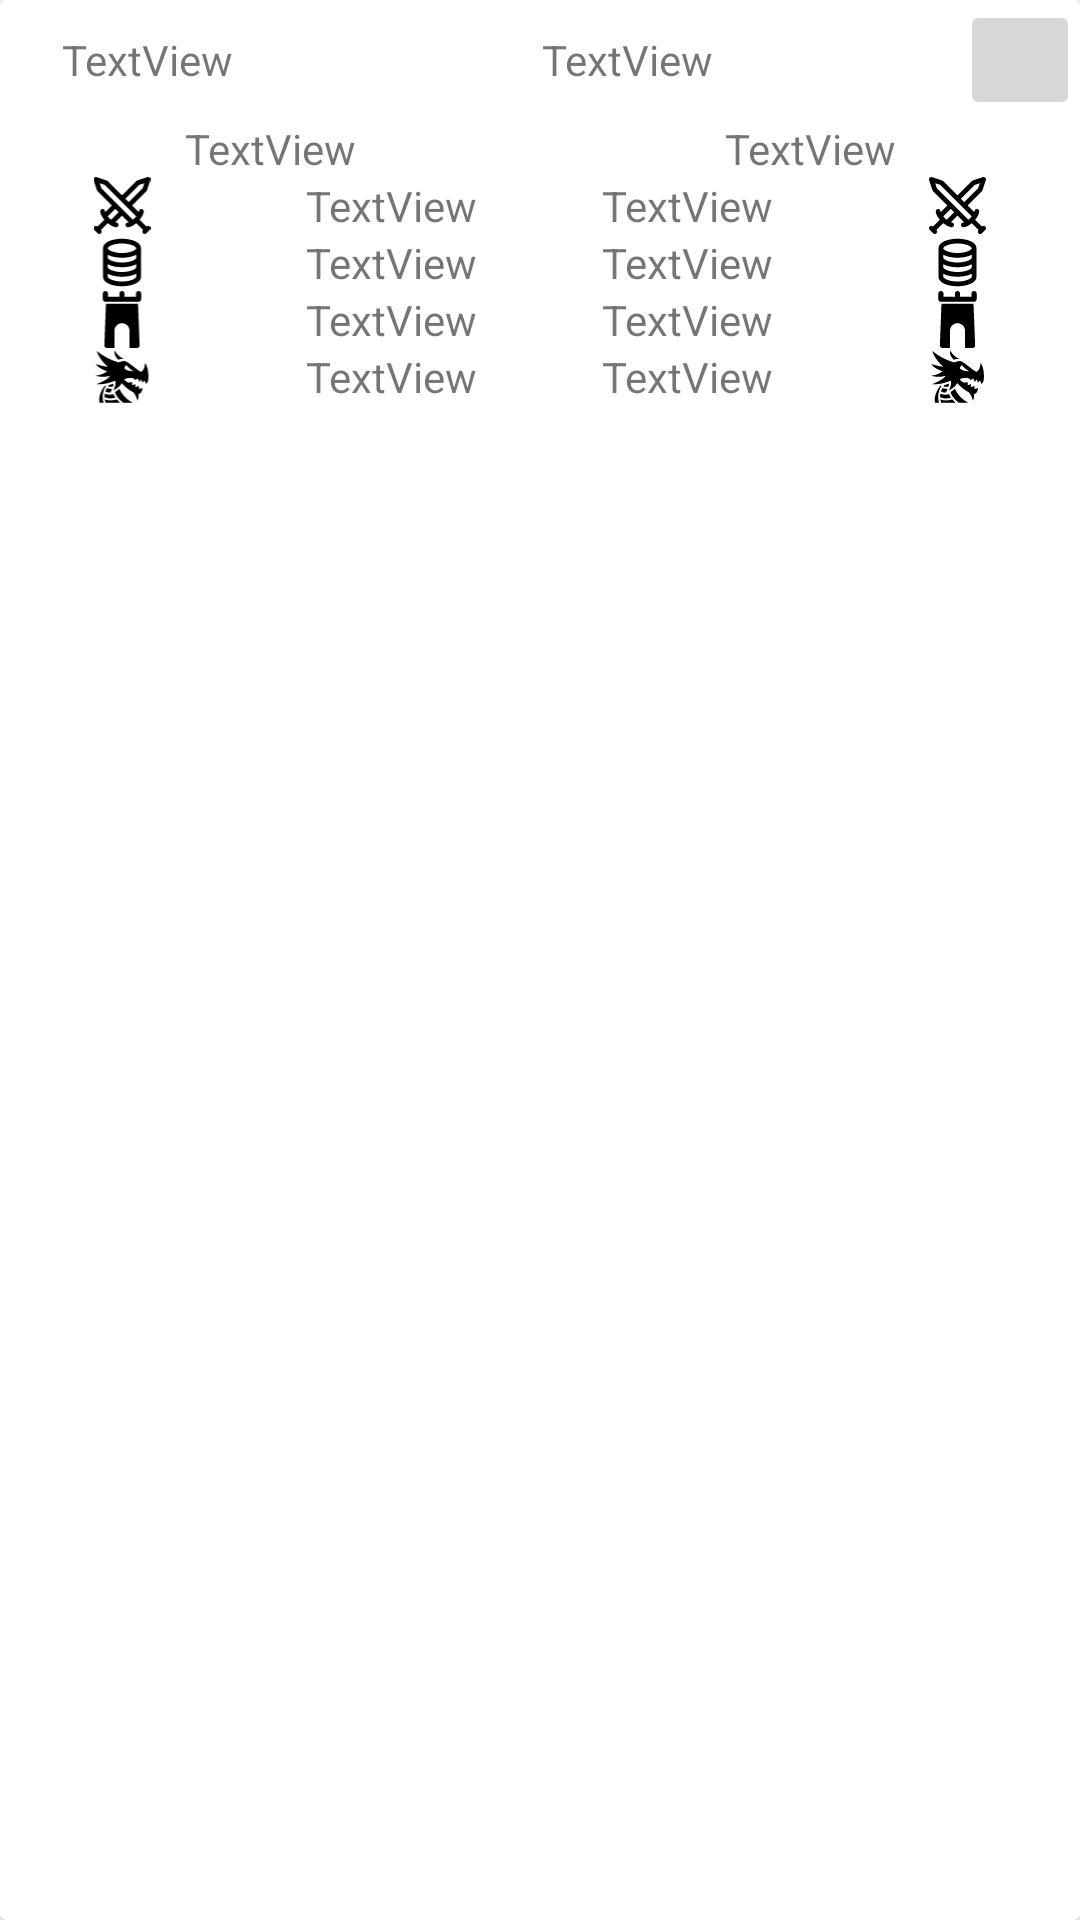

Icons on this 1080px x 1920px Android screen, each with the point to tap as point (x, y):
coin stack: point (122, 262), point (957, 262)
spiked dragon head: point (957, 376), point (122, 377)
sword: point (122, 205), point (957, 205)
tower: point (122, 319), point (957, 319)
